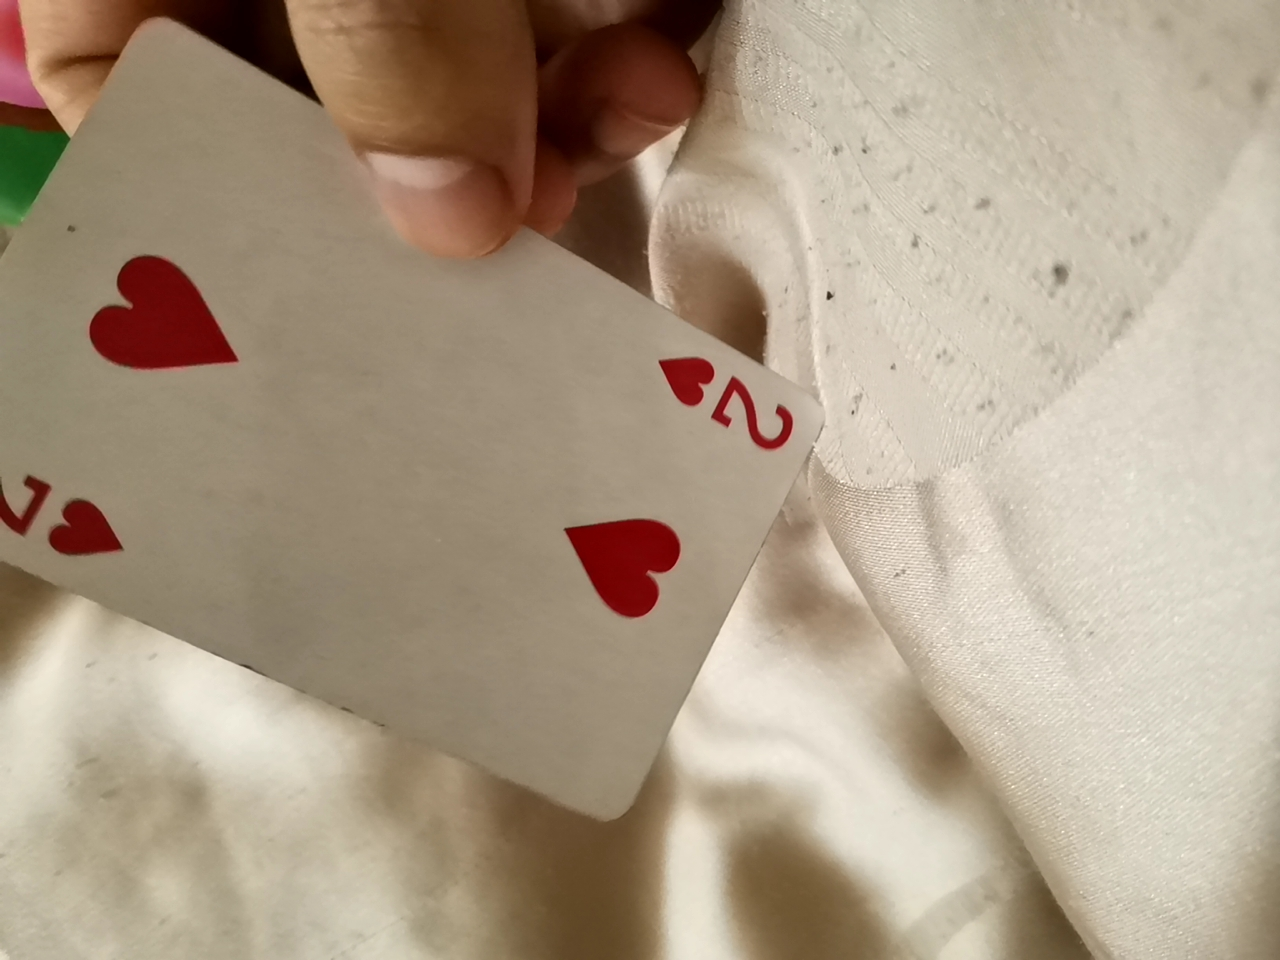hx 2: (4, 28, 853, 855)
